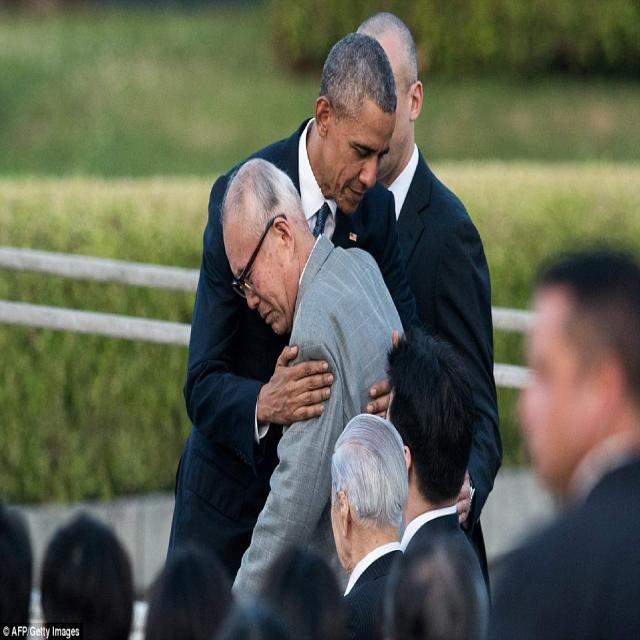body: (160, 30, 429, 598), (353, 9, 508, 613), (218, 156, 409, 614), (1, 505, 496, 639), (520, 232, 636, 636), (384, 331, 494, 640), (328, 411, 409, 640)
